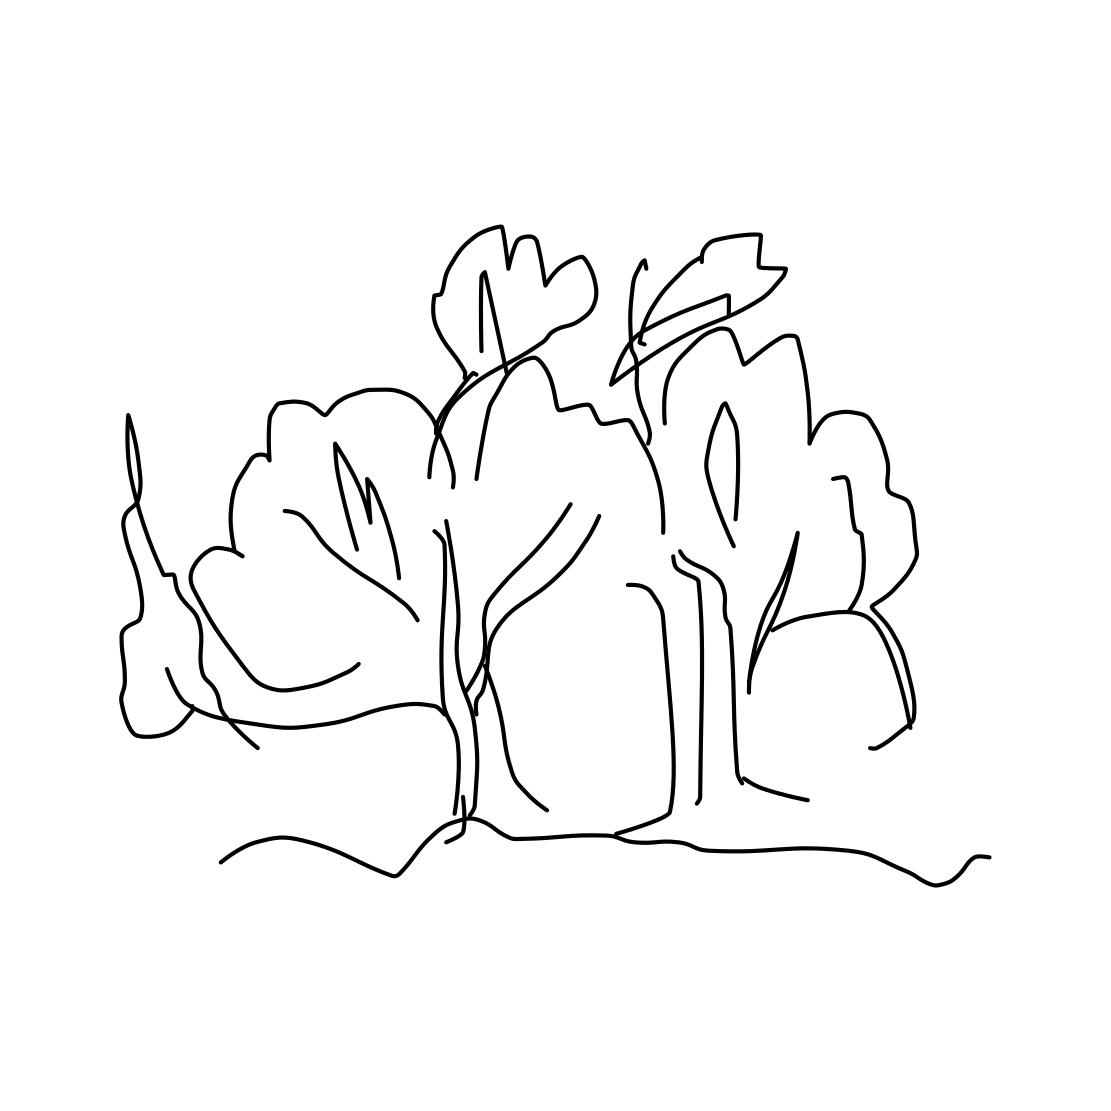Tree: (58, 185, 635, 892)
